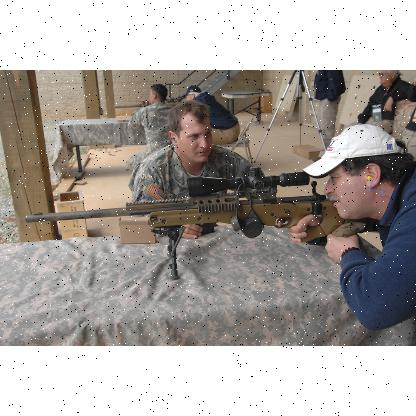gun: (25, 164, 378, 276)
